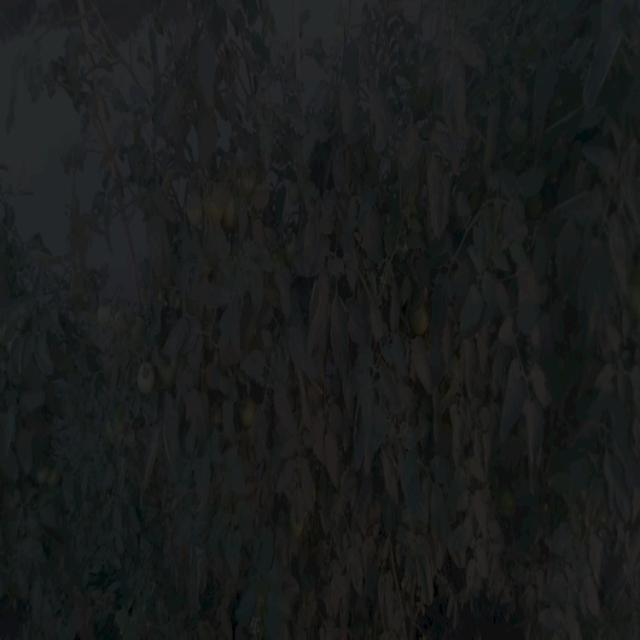tomato: (503, 115, 536, 145), (411, 304, 435, 336), (136, 361, 157, 394), (219, 199, 239, 232), (37, 466, 68, 487), (243, 174, 264, 203), (246, 395, 262, 432), (94, 305, 116, 331), (502, 491, 520, 520), (287, 519, 307, 545), (207, 200, 225, 226), (185, 205, 207, 225), (286, 184, 301, 209)
